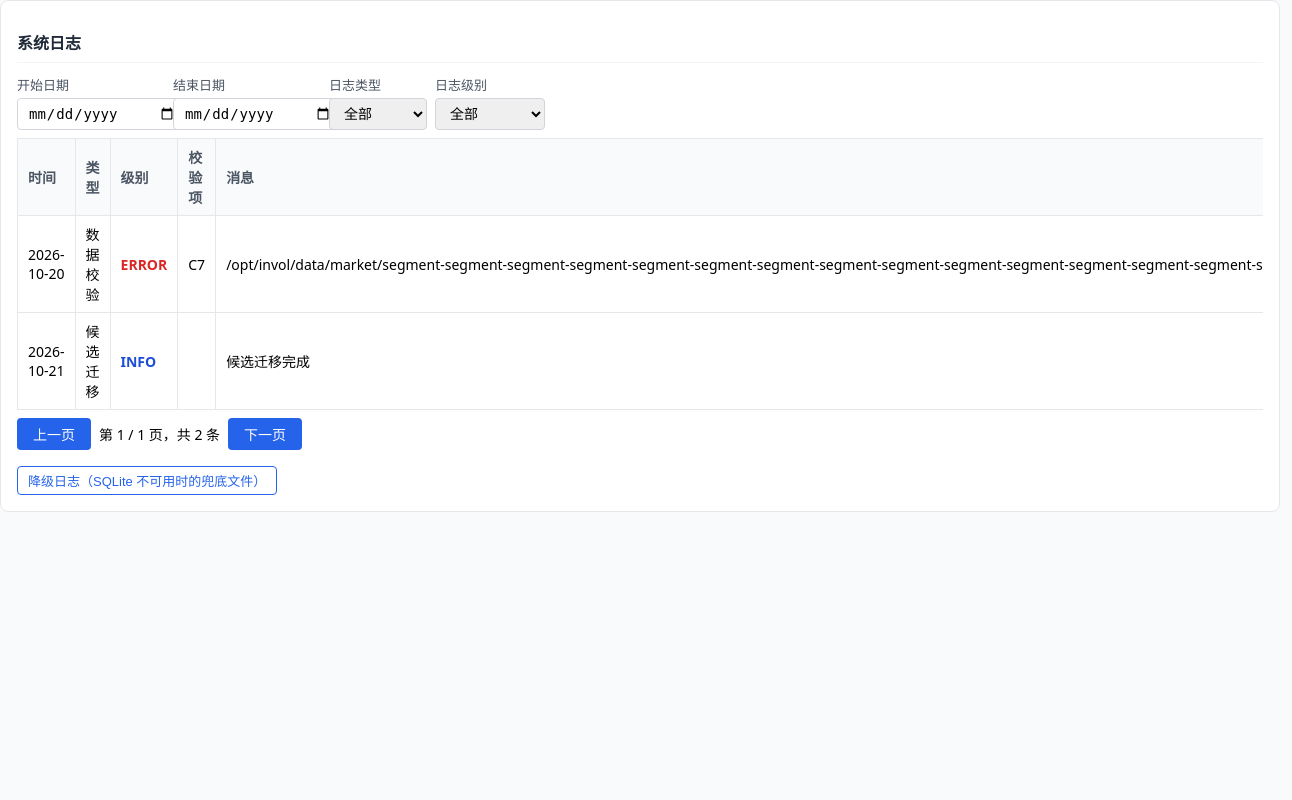
Wave 7 卡 1 · Admin 日志面板 › Admin 日志面板：降级日志为空时显示空态而非报错
Click the button "降级日志（SQLite 不可用时的兜底文件）".
click(147, 481)  # box [17, 466, 277, 495]
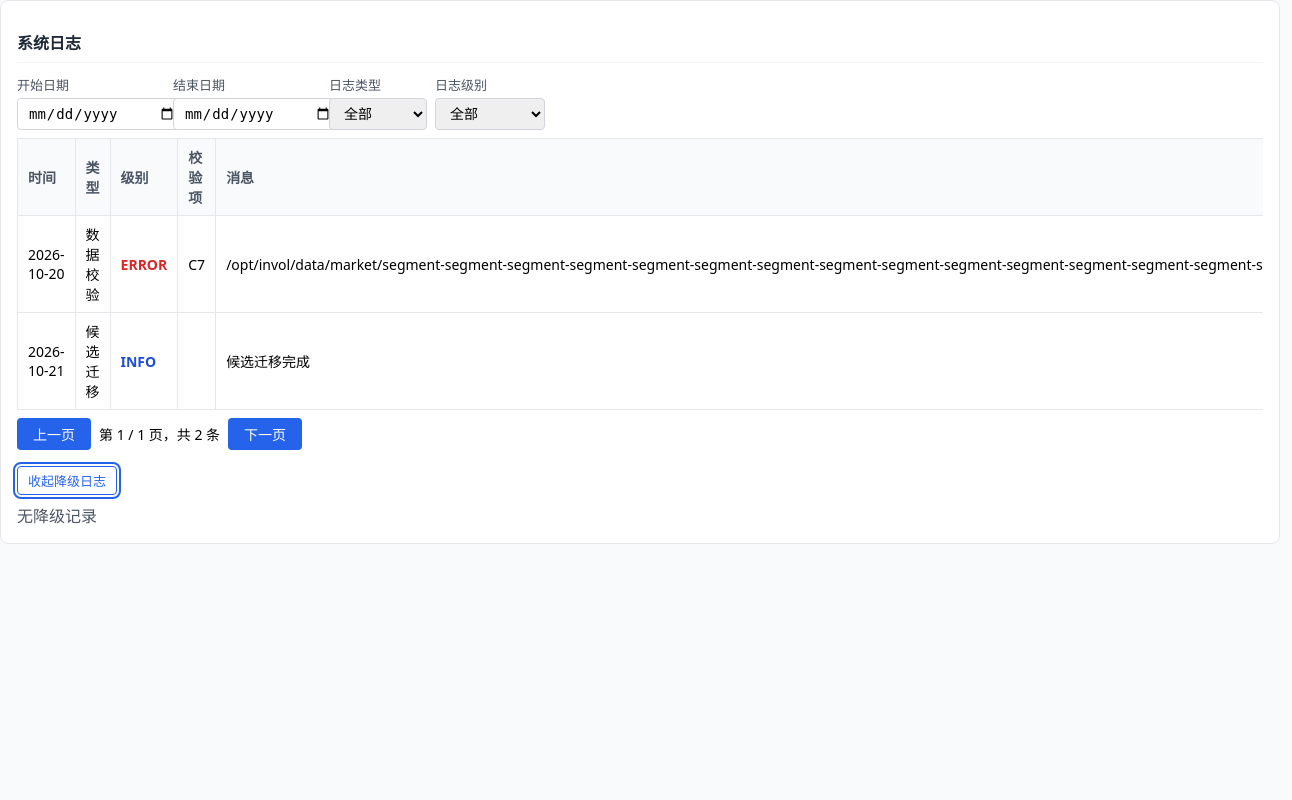
Now the text with test id "admin-log-fallback-empty" reads "无降级记录", box [17, 505, 97, 527]
